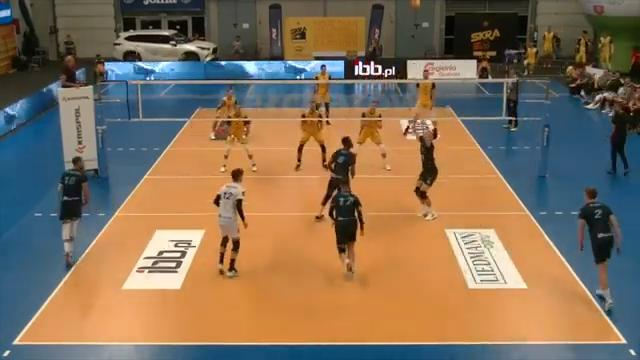alzata: (409, 111, 445, 223)
